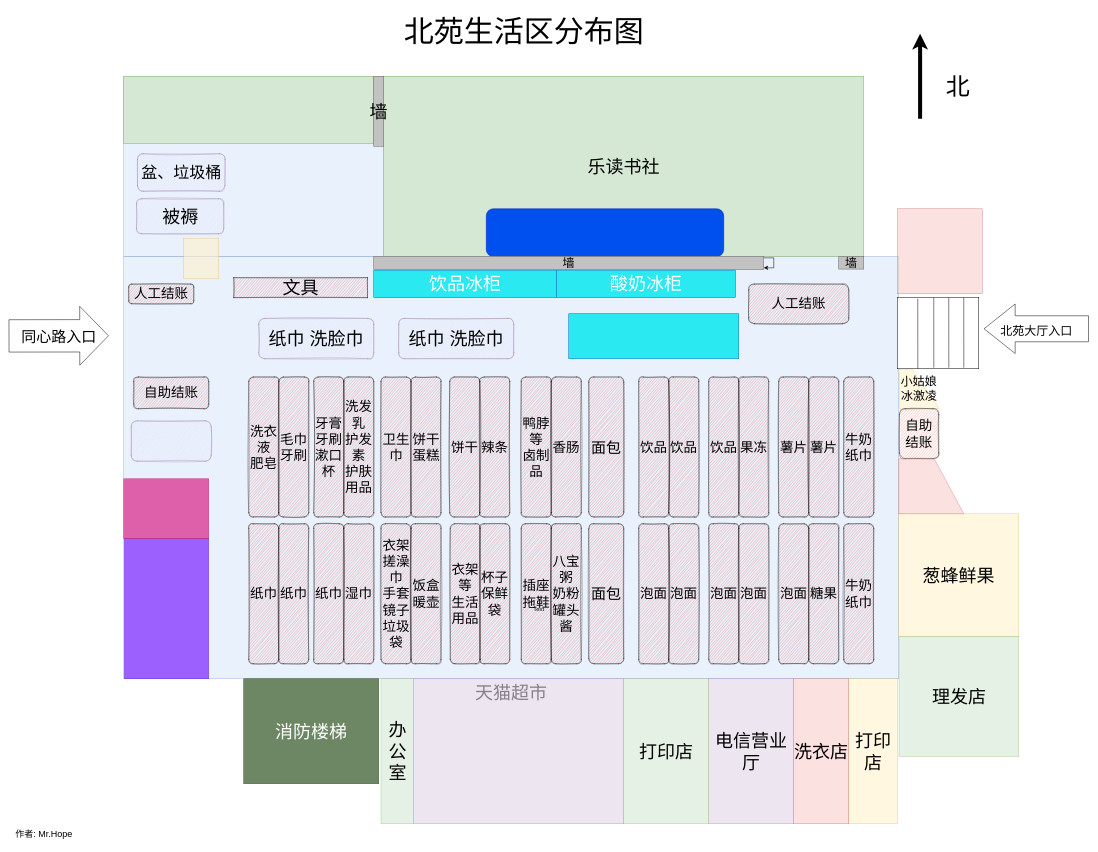
Some shapes in this 1098 by 852 pixel diagram are drawn without their labels. Each missing label, with the centre of its shape:
一间寿司: the point at 939,251
北苑的茶: the point at 248,110
杂货店: the point at 518,751
楼梯: the point at 938,333
瑞幸咖啡: the point at 605,232
盆 垃圾桶: the point at 171,440
眼镜店: the point at 166,608
美甲店: the point at 166,508
茉莉香 鸭脖王: the point at 931,486
雪糕 冰激凌: the point at 653,336
鲜花: the point at 201,258
